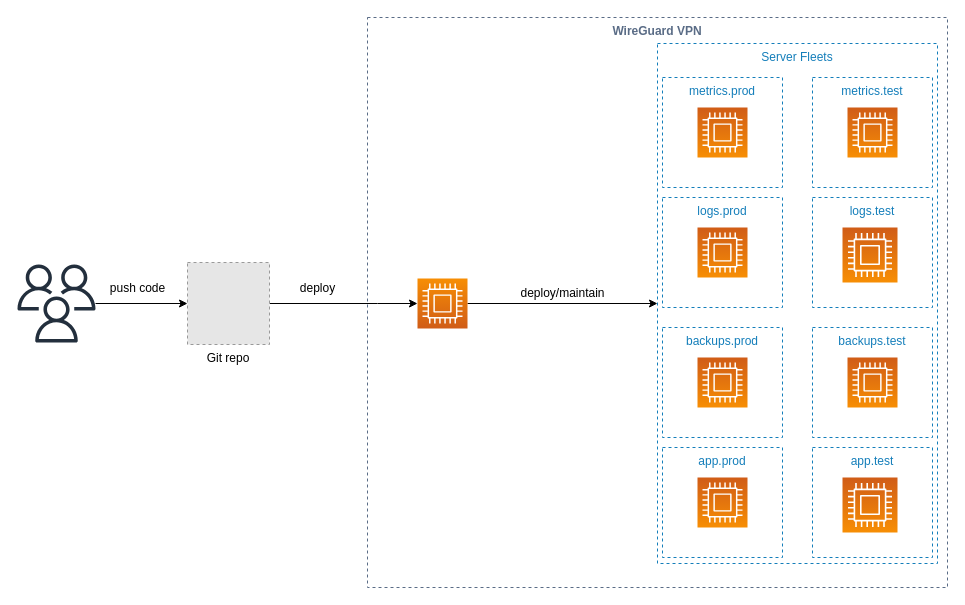
Some shapes in this 965 by 605 pixel diagram are drawn without their labels. Grey dashed boxes stand in for pictures. The shapes that lost their labels are listed below. From the top down, each one's centre as x and y in pixels, then its label:
At point 56,303: "devops".
At point 442,303: "Monitoring VM/ Github Runner".
